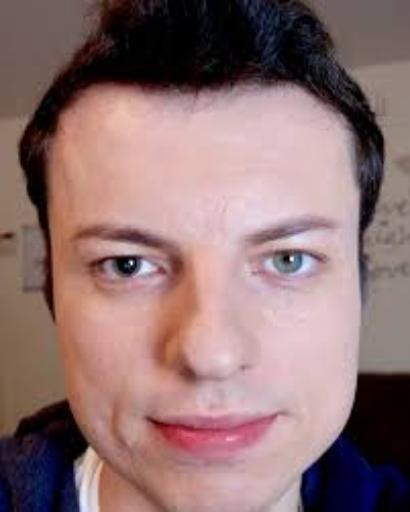left_eye: (250, 248, 330, 285)
left_lip_corner: (271, 403, 299, 428)
right_eye: (83, 253, 168, 289)
right_lip_corner: (135, 408, 174, 435)
